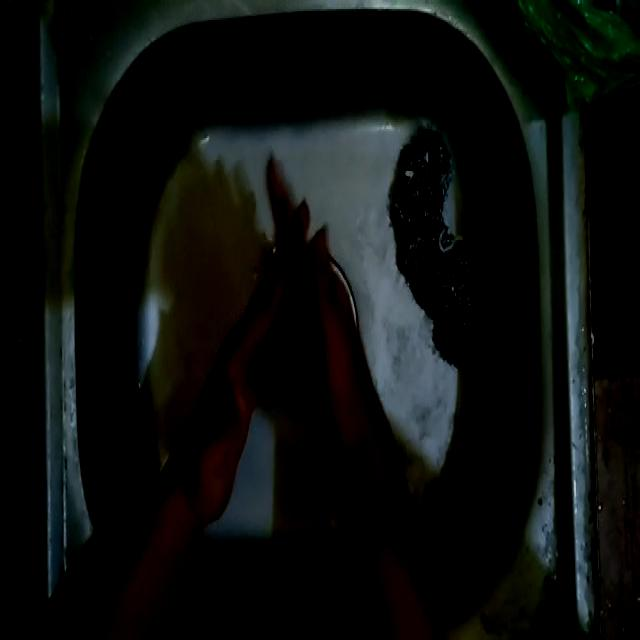step_3: (196, 156, 366, 500)
